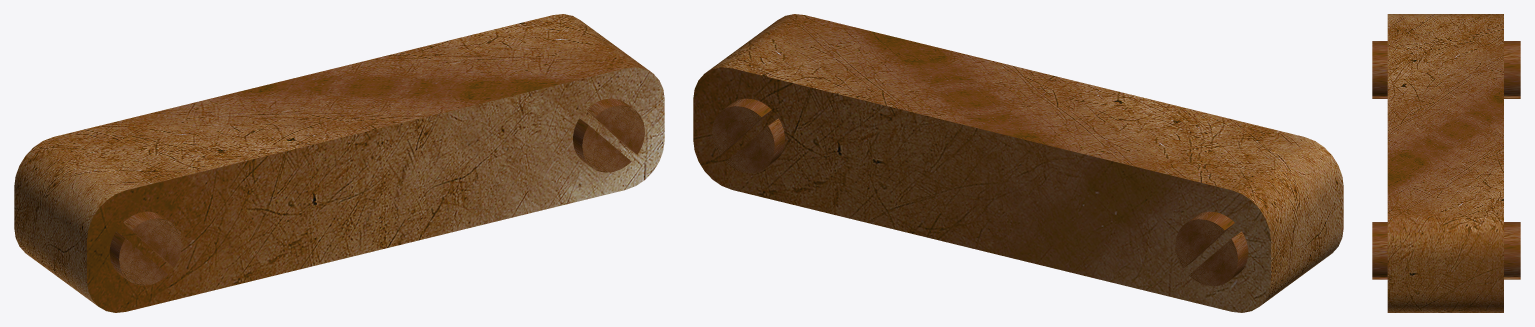
The model's file is Minus.FBX.
3 renders of one model, left to right at view 1: azimuth 30°, elevation 25°; view 2: azimuth 150°, elevation 25°; view 3: azimuth 270°, elevation 25°, orthographic. The views are drawn at different scales.
Parts seen in each view (by area): view 1: Minus004, Screw_493, Screw_744; view 2: Minus004, Screw_493, Screw_744; view 3: Minus004, Screw_744, Screw_493.
Part boxes in pixels (x1=…): Minus004: x1=14, y1=14, x2=664, y2=312; Screw_493: x1=109, y1=211, x2=181, y2=285; Screw_744: x1=573, y1=98, x2=644, y2=172; Minus004: x1=693, y1=14, x2=1343, y2=312; Screw_493: x1=1175, y1=211, x2=1248, y2=286; Screw_744: x1=712, y1=98, x2=784, y2=173; Minus004: x1=1387, y1=14, x2=1503, y2=312; Screw_744: x1=1372, y1=222, x2=1520, y2=279; Screw_493: x1=1372, y1=41, x2=1520, y2=98.
Bounding box in the file's own units: 46.43 × 9.34 × 12.89.
Materials: 1 (1 with a texture image).
